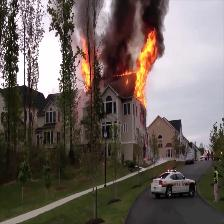fire: (135, 35, 156, 99), (78, 33, 95, 86)
smoke: (103, 0, 132, 74), (139, 2, 165, 34), (80, 0, 97, 31)
